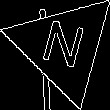N_S: (38, 17, 89, 76)
